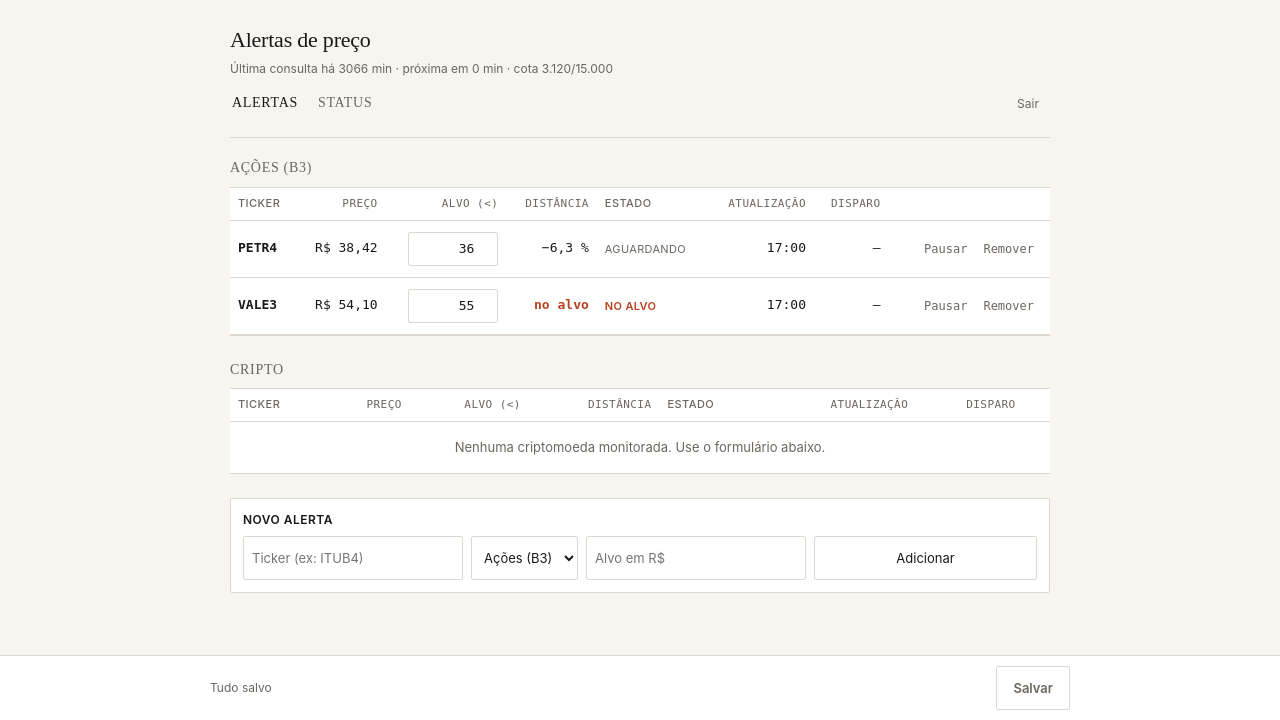
Test: App real — wiring do 401 (D-10 restaurativo) › carga fresca de /: 401 no meio da edição abre o modal NO LUGAR — pathname / e a edição em memória preservada
Replace the text in the number field named "Alvo de VALE3" with "60" at (453, 306), box top-left (408, 288), bottom-right (498, 322)
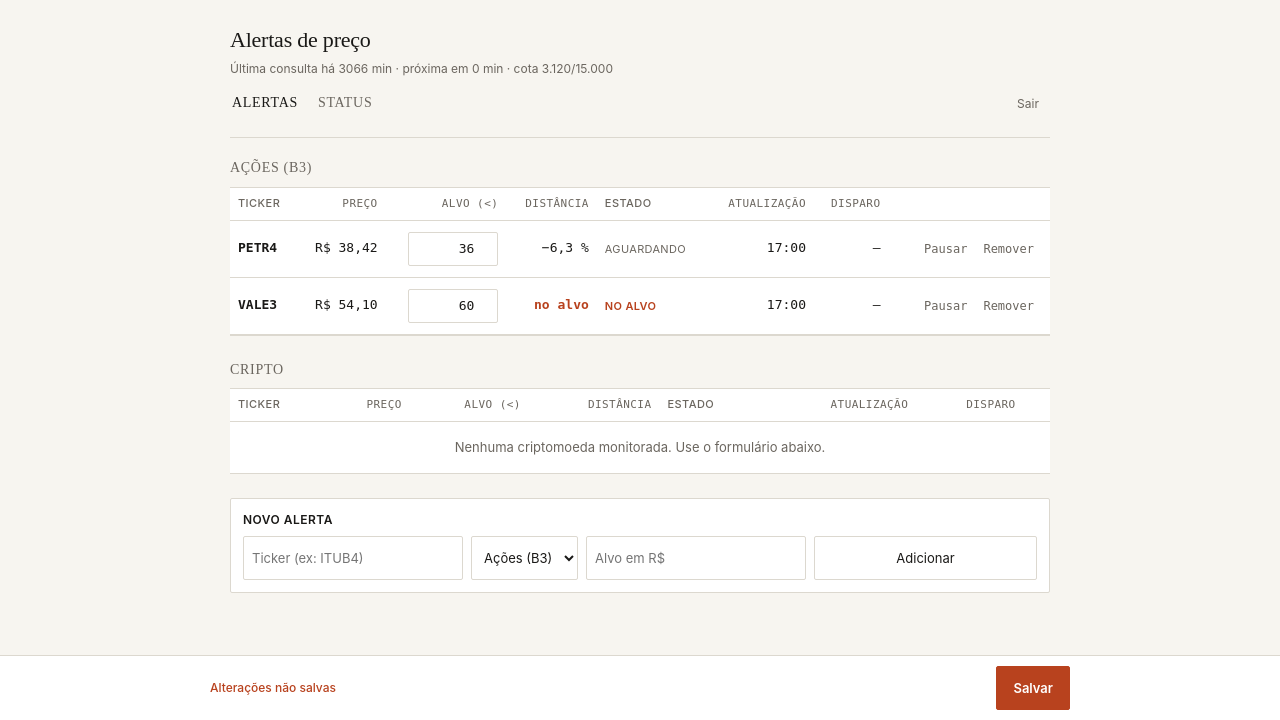
Click the button with aria-label "Pausar PETR4".
click(946, 248)  # box top-left (916, 226), bottom-right (976, 270)
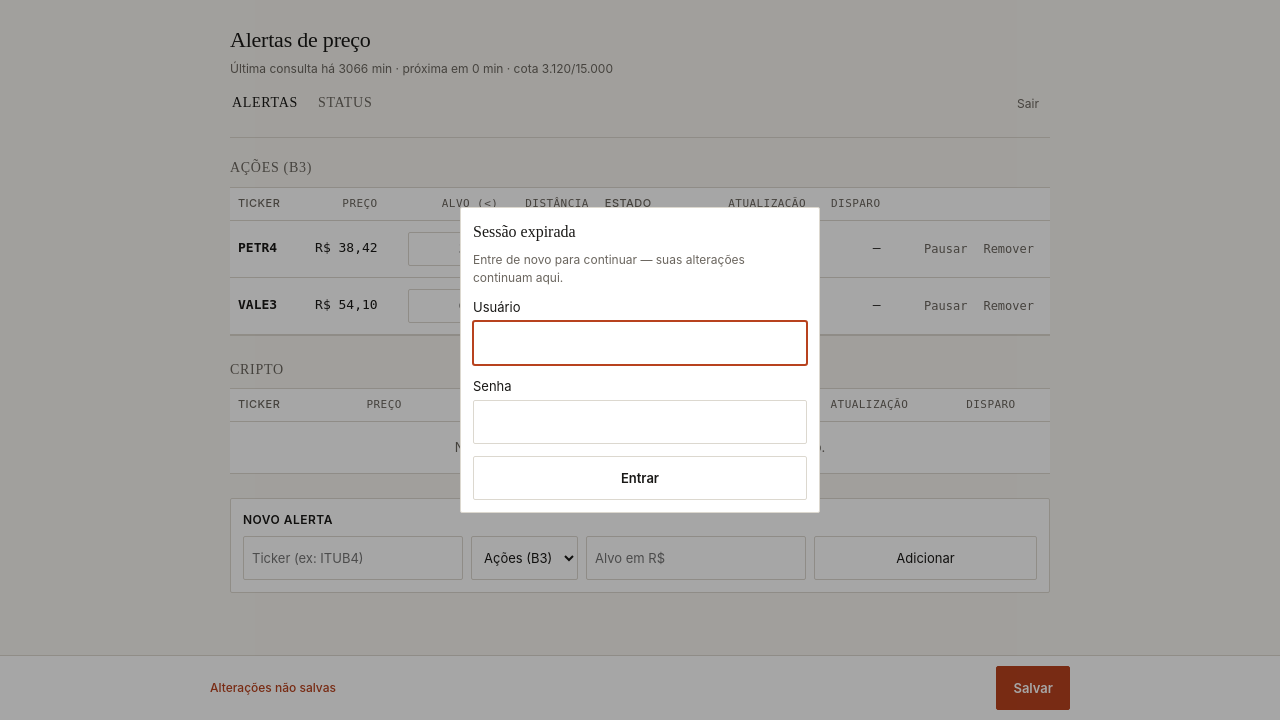
Result: the dialog "Sessão expirada" is shown at top-left (460, 207), bottom-right (820, 513)
